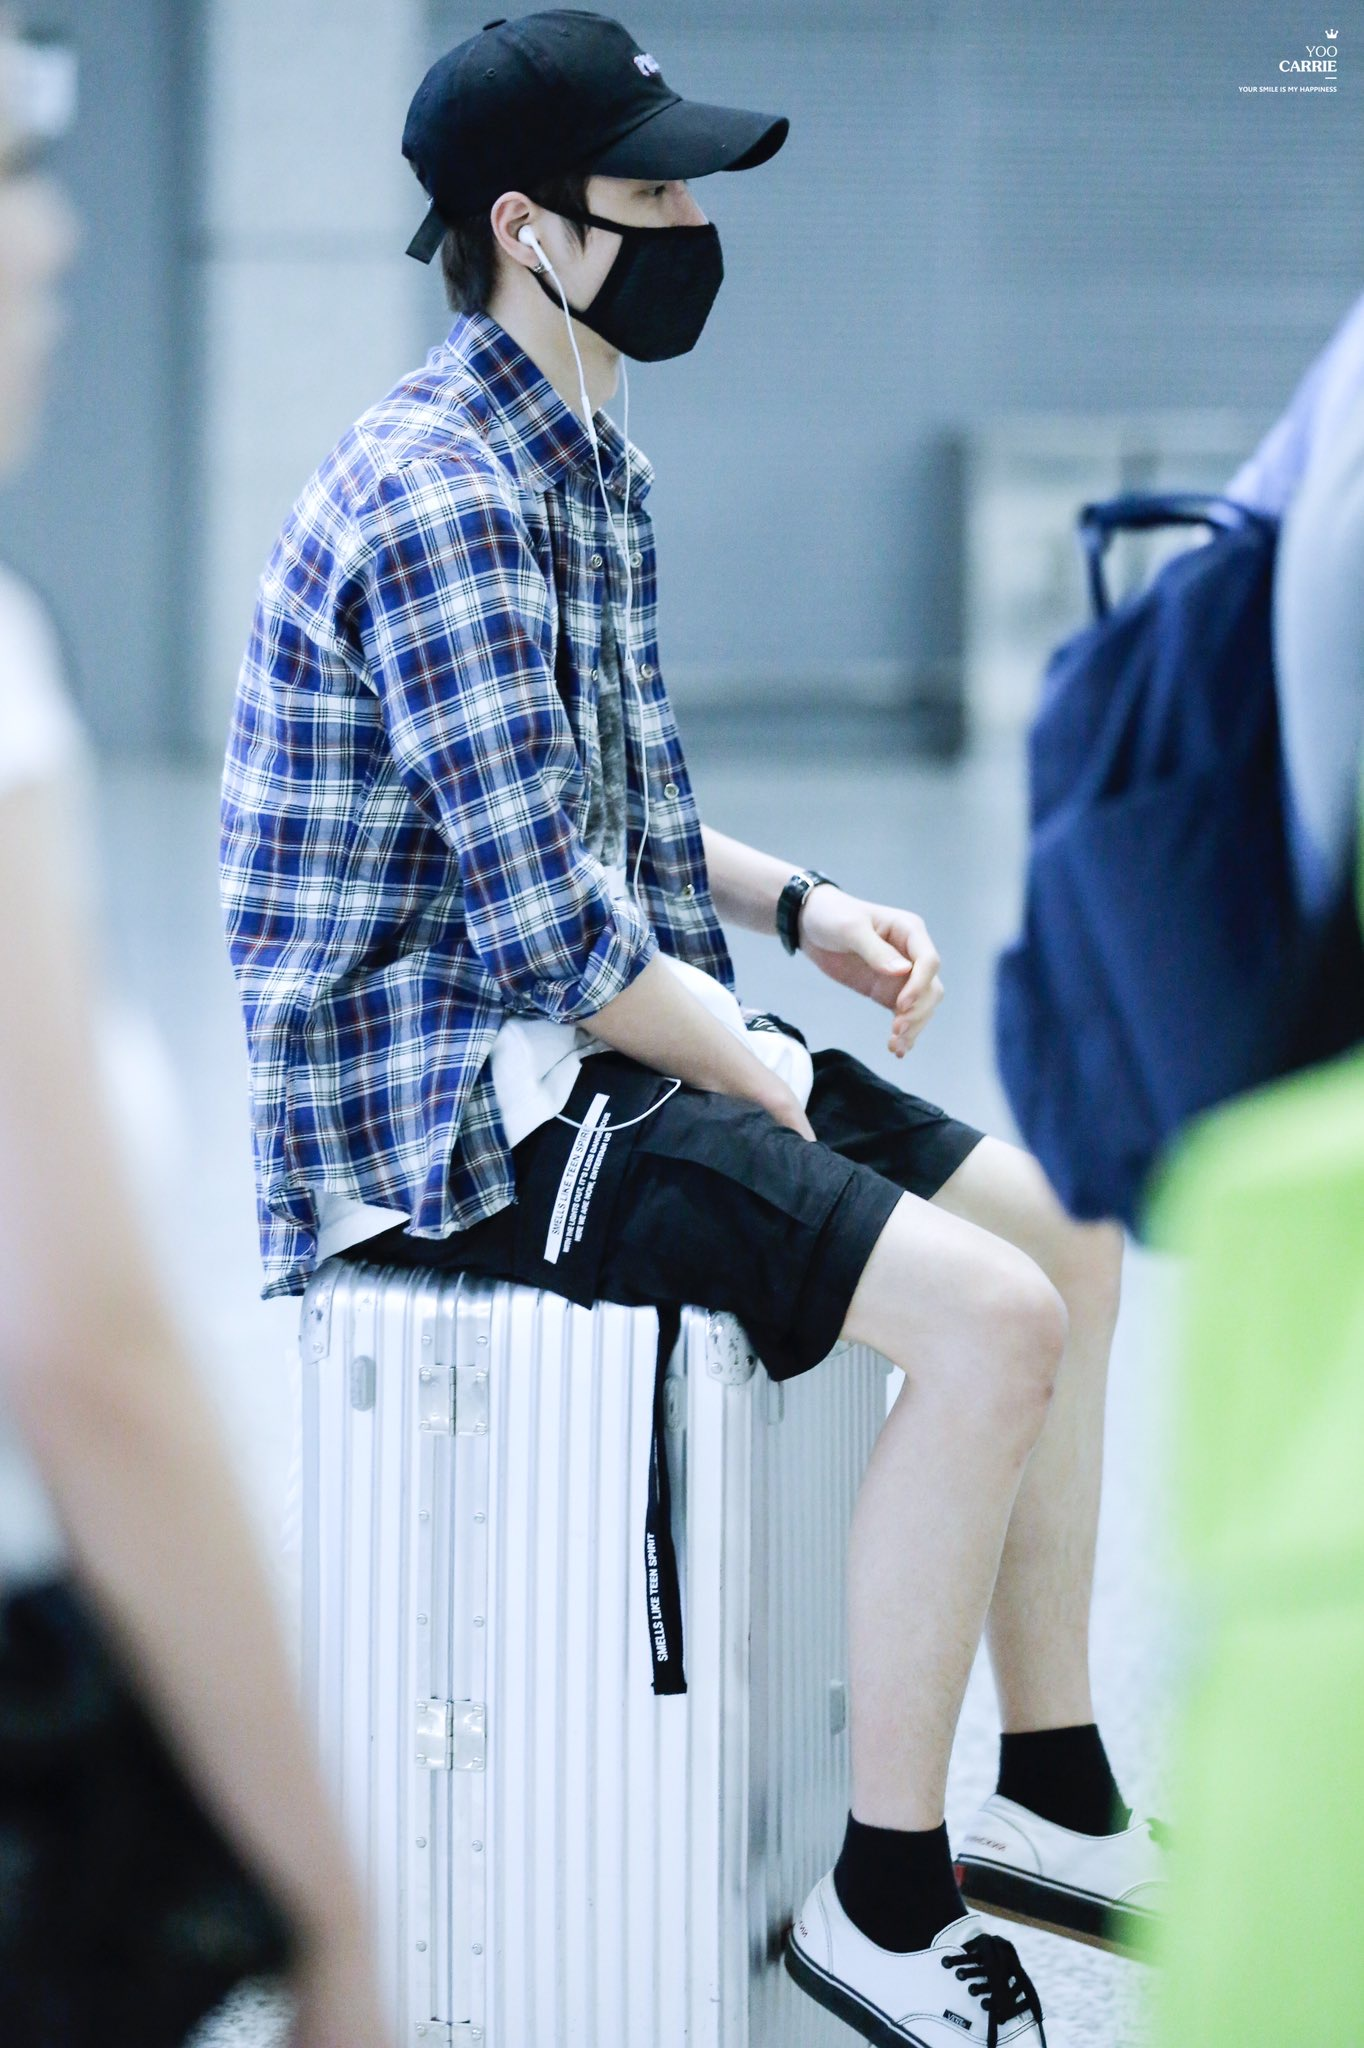backpack: (967, 464, 1333, 1233)
luggage: (274, 1220, 882, 2048)
people: (249, 14, 1196, 2048)
